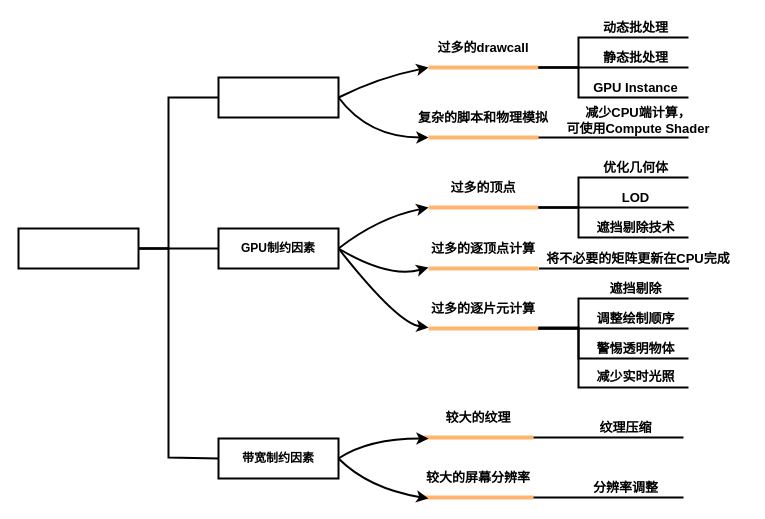
Some shapes in this 765 by 519 pixel diagram are drawn without their labels. The centre of each missing label's shape, as x and y in pixels:
CPU制约因素: (278,97)
影响性能的因素: (78,248)
